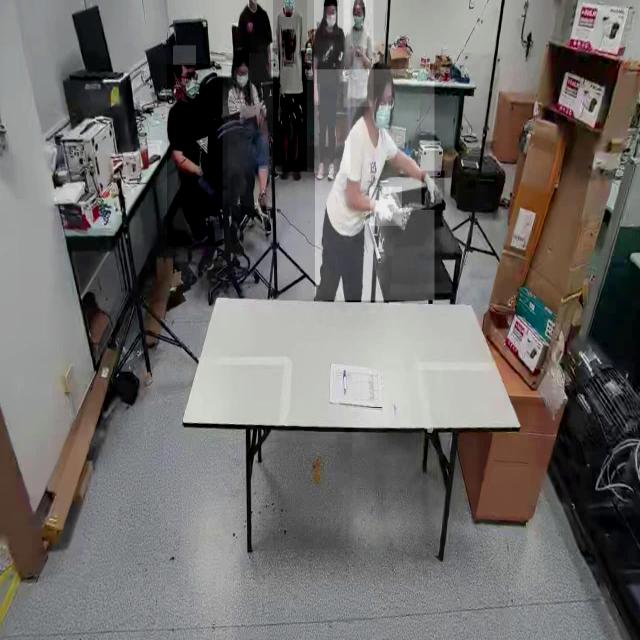face_mask: (179, 63, 201, 106), (373, 95, 395, 133), (323, 3, 339, 34), (236, 68, 248, 92), (352, 8, 364, 31), (285, 0, 295, 12)
hand_glove: (370, 186, 402, 226), (421, 170, 445, 210)
hand_noglove: (313, 84, 320, 105), (301, 66, 309, 82), (355, 46, 363, 58)
head_nohelmet: (368, 62, 394, 84), (172, 45, 196, 66), (232, 51, 248, 68), (323, 0, 339, 7), (353, 0, 366, 8)
person: (314, 70, 434, 302), (166, 64, 222, 247), (306, 0, 351, 174), (273, 0, 314, 172), (228, 53, 270, 207), (344, 0, 374, 108)
shoes: (277, 156, 293, 183), (292, 157, 304, 184), (325, 161, 339, 182), (315, 157, 325, 182)
